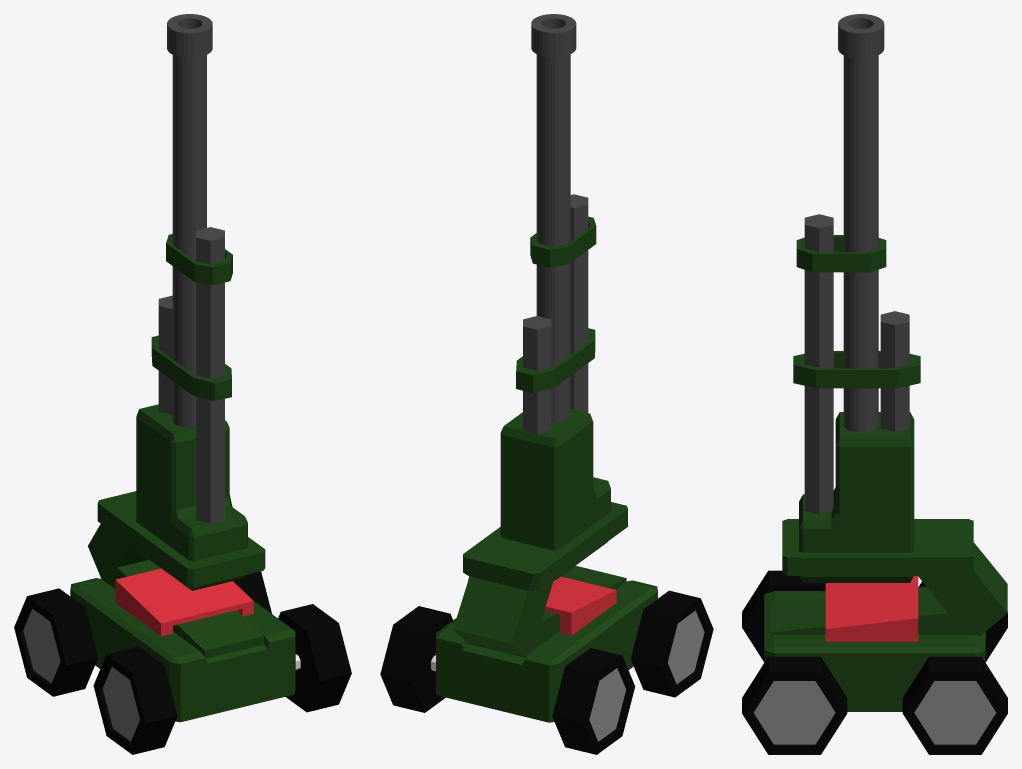
The model's file is towerZenit2lvl.fbx.
3 renders of one model, left to right at view 1: azimuth 30°, elevation 25°; view 2: azimuth 150°, elevation 25°; view 3: azimuth 270°, elevation 25°, orthographic. The views are drawn at different scales.
Parts seen in each view (by area): view 1: Cube.011, Cylinder.007, Cube.012, Cylinder.004, Cylinder.005, Cube.014, Cylinder.003, Cylinder.002, Cylinder.006; view 2: Cube.011, Cylinder.007, Cube.012, Cylinder.004, Cylinder.005, Cylinder.006, Cube.014, Cylinder.003, Cylinder.002; view 3: Cube.011, Cylinder.007, Cylinder.004, Cube.012, Cylinder.005, Cube.014, Cylinder.003, Cylinder.006, Cylinder.002.
Boxes of the visible parts, left/top/right/bottom form: Cube.011: left=88, top=404, right=265, bottom=658; Cylinder.007: left=14, top=571, right=351, bottom=754; Cube.012: left=70, top=578, right=295, bottom=722; Cylinder.004: left=167, top=14, right=212, bottom=427; Cylinder.005: left=196, top=227, right=224, bottom=523; Cube.014: left=115, top=568, right=253, bottom=636; Cylinder.003: left=151, top=335, right=231, bottom=401; Cylinder.002: left=166, top=234, right=232, bottom=285; Cylinder.006: left=158, top=295, right=172, bottom=414; Cube.011: left=453, top=409, right=627, bottom=657; Cylinder.007: left=380, top=577, right=713, bottom=754; Cube.012: left=436, top=580, right=657, bottom=722; Cylinder.004: left=531, top=14, right=576, bottom=421; Cylinder.005: left=570, top=194, right=588, bottom=412; Cylinder.006: left=523, top=316, right=551, bottom=433; Cube.014: left=544, top=576, right=616, bottom=635; Cylinder.003: left=516, top=328, right=595, bottom=393; Cylinder.002: left=530, top=216, right=596, bottom=267; Cube.011: left=771, top=412, right=1007, bottom=635; Cylinder.007: left=742, top=570, right=1007, bottom=754; Cylinder.004: left=838, top=14, right=884, bottom=432; Cube.012: left=764, top=591, right=985, bottom=711; Cylinder.005: left=804, top=214, right=833, bottom=514; Cube.014: left=825, top=576, right=918, bottom=641; Cylinder.003: left=793, top=351, right=920, bottom=388; Cylinder.006: left=880, top=311, right=909, bottom=431; Cylinder.002: left=796, top=235, right=886, bottom=272.
Bounding box in the file's own units: 176 × 549 × 195.
